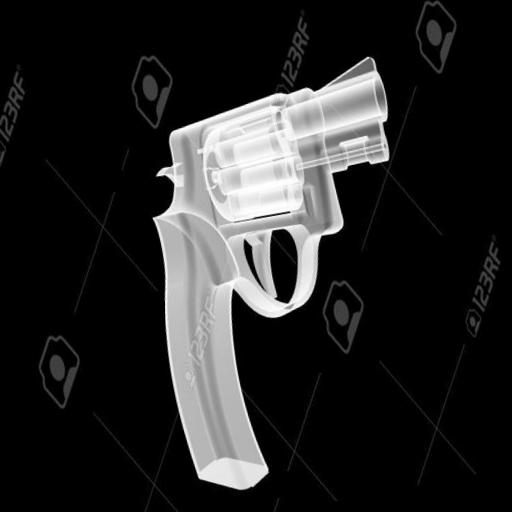Handgun: (112, 50, 453, 498)
